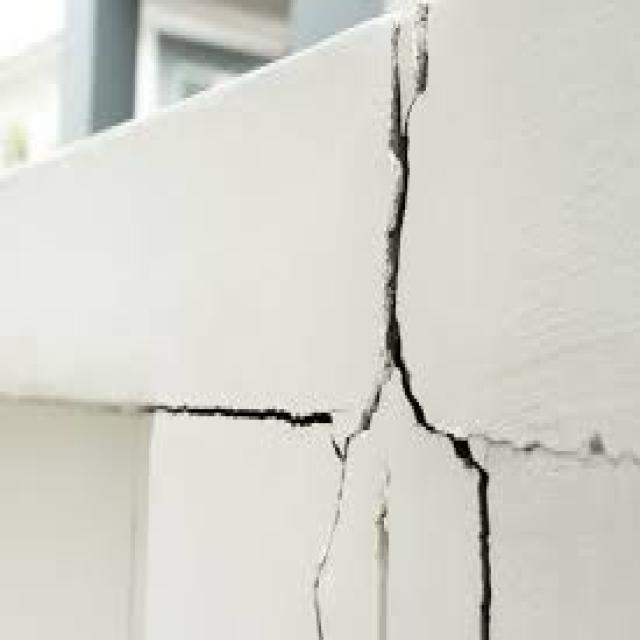Crack: (382, 14, 493, 636), (305, 353, 389, 637), (142, 395, 342, 458)
